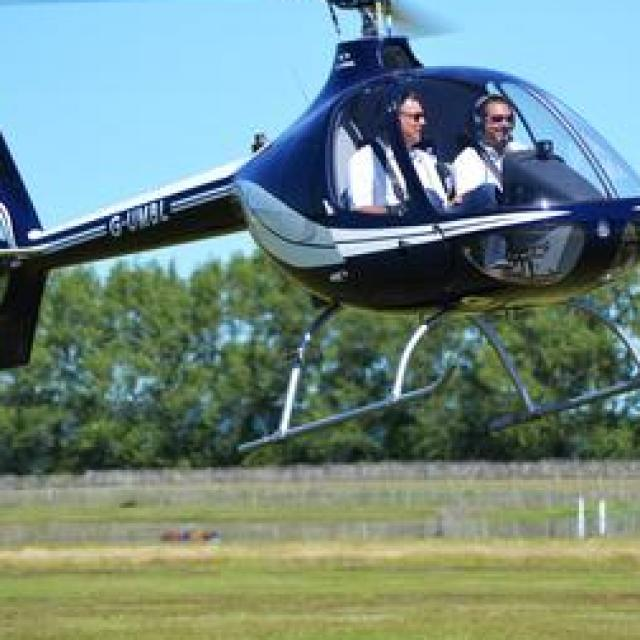helicopter: (1, 1, 640, 471)
